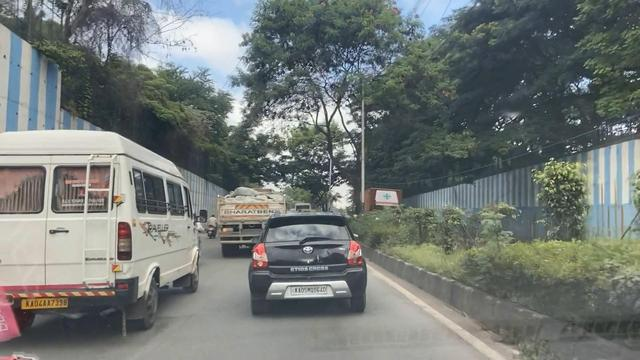HMV: (0, 127, 216, 336)
LMV: (247, 204, 388, 332)
